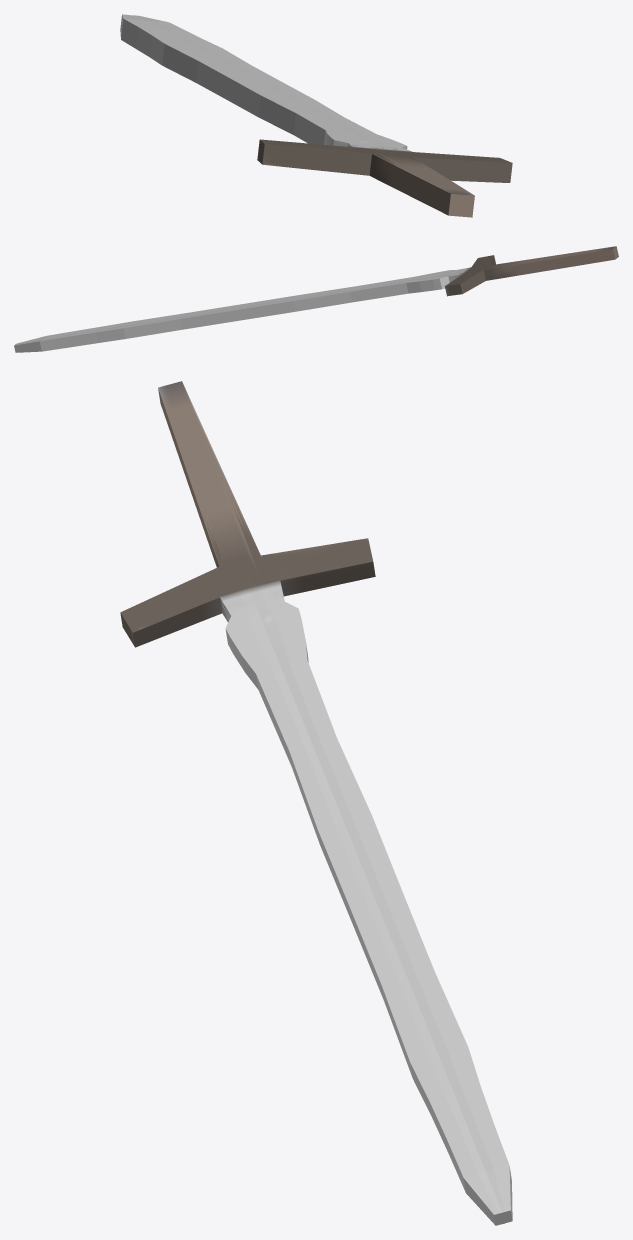
The model's file is sword_000110.obj.
3 views of the same model, one above another, from view 1: azimuth 90°, elevation 25°; view 2: azimuth 150°, elevation 25°; view 3: azimuth 270°, elevation 25° (orthographic). The views are drawn at different scales.
Size of the model in its own units: 0.6527 by 0.2039 by 0.2127.
